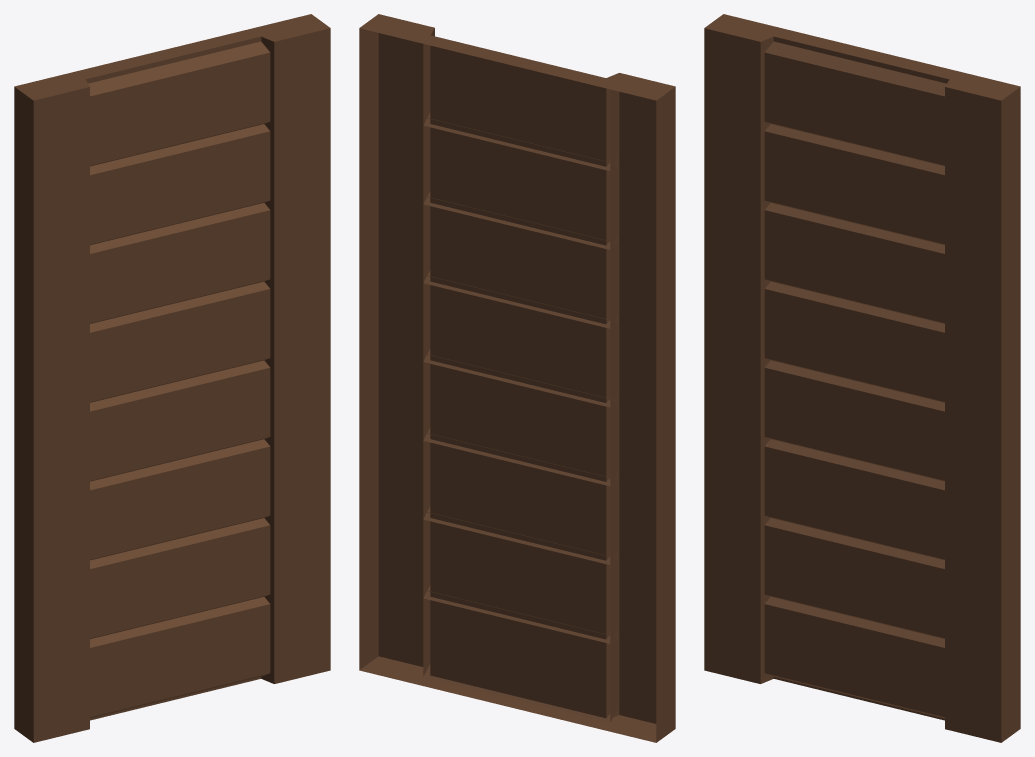
The model's file is Door4.glb.
The picture shows the model from 3 angles, left to right: view 1: azimuth 30°, elevation 25°; view 2: azimuth 150°, elevation 25°; view 3: azimuth 330°, elevation 25°; orthographic projection.
Visible parts, largest first — view 1: Door4; view 2: Door4; view 3: Door4.
Part boxes in pixels (x1,y1,x2,y2): Door4: (14, 14, 330, 742); Door4: (359, 14, 675, 742); Door4: (704, 14, 1020, 742).
Size of the model in its own units: 0.4437 by 0.9162 by 0.0501.
1 material, 1 textured.
